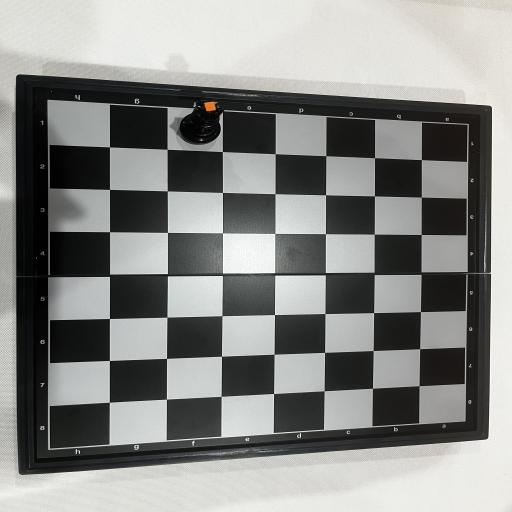Black queen: (179, 100, 225, 144)
